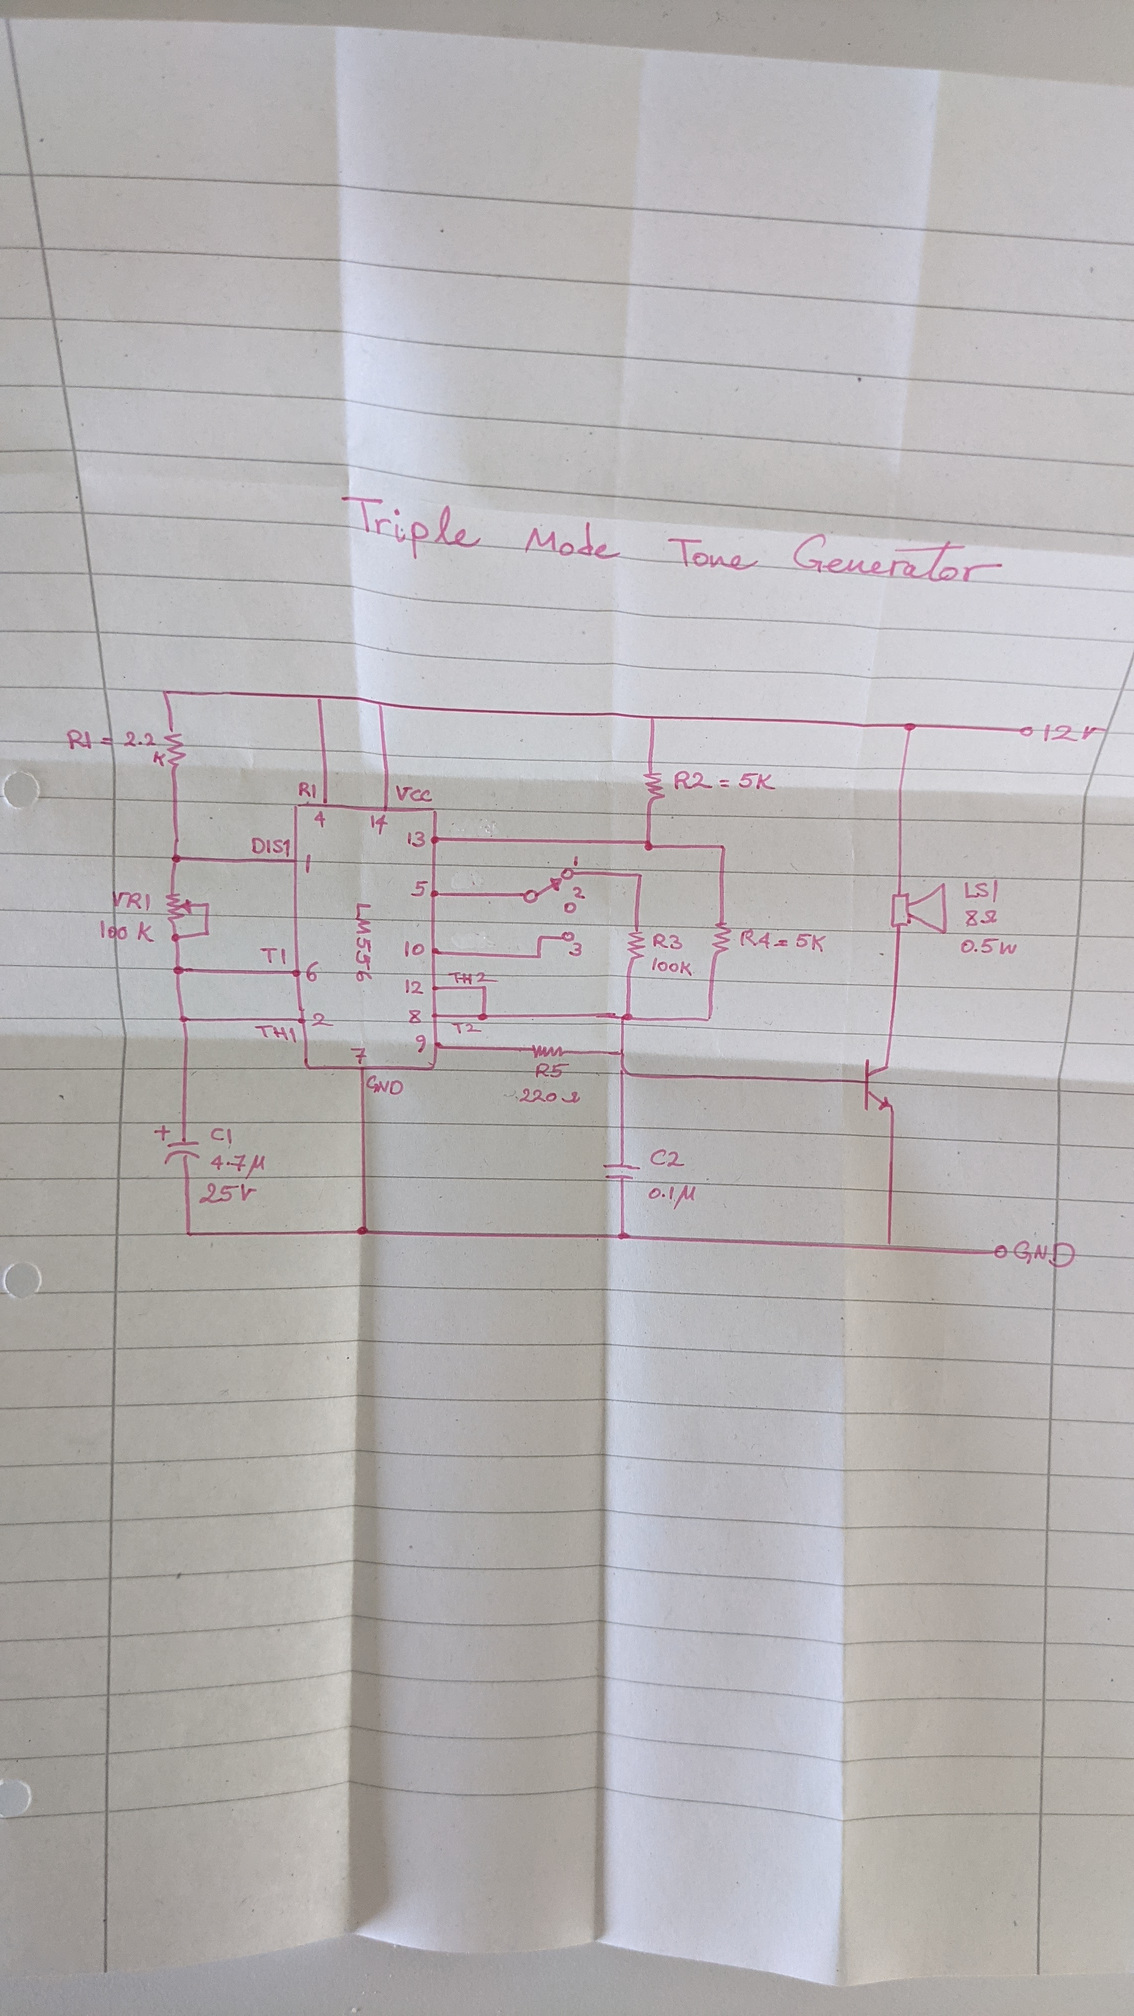capacitor.polarized: (151, 1122, 204, 1167)
capacitor.unpolarized: (600, 1160, 644, 1187)
integrated_circuit: (292, 800, 444, 1074)
junction: (172, 964, 195, 978), (177, 1014, 197, 1027), (642, 836, 656, 853), (619, 1009, 636, 1023), (354, 1224, 372, 1236), (618, 1066, 636, 1079), (169, 852, 184, 865), (616, 1230, 633, 1242), (901, 721, 918, 732), (170, 932, 186, 943), (883, 1241, 896, 1253), (702, 1014, 716, 1025), (476, 1011, 490, 1022), (634, 870, 647, 881), (201, 928, 215, 937), (183, 1227, 194, 1238), (314, 692, 325, 703), (375, 698, 386, 709), (717, 842, 728, 852), (161, 687, 172, 696), (204, 899, 213, 908), (534, 951, 544, 961), (648, 714, 659, 723), (616, 1048, 627, 1056), (479, 983, 490, 991), (536, 933, 546, 942)
resistor: (163, 726, 188, 773), (709, 919, 734, 958), (641, 768, 667, 804), (624, 928, 647, 964), (528, 1043, 568, 1061)
resistor.adjustable: (163, 892, 194, 925)
speaker: (889, 879, 953, 939)
switch: (521, 865, 579, 915)
terminal: (990, 1243, 1009, 1261), (1016, 723, 1037, 739), (557, 929, 577, 943)
text: (336, 489, 1007, 588), (65, 727, 168, 768), (737, 926, 829, 955), (673, 768, 780, 791), (1012, 1238, 1079, 1270), (353, 901, 375, 984), (98, 917, 158, 944), (209, 1152, 267, 1180), (647, 1182, 699, 1213), (1041, 721, 1108, 745), (197, 1181, 259, 1205), (516, 1086, 582, 1106), (960, 935, 1020, 957), (649, 955, 696, 980), (111, 888, 154, 914), (248, 835, 292, 857), (964, 878, 1002, 903), (253, 1023, 299, 1044), (366, 1073, 406, 1097), (647, 1146, 687, 1170), (393, 784, 435, 804), (649, 930, 685, 953), (532, 1061, 572, 1080), (446, 971, 500, 984), (964, 907, 1000, 928), (258, 944, 289, 966), (402, 937, 428, 960), (208, 1126, 235, 1146), (368, 811, 390, 836), (449, 1020, 483, 1036), (296, 780, 320, 802), (404, 829, 428, 850), (309, 1011, 335, 1029), (408, 878, 429, 899), (305, 960, 323, 983), (403, 978, 426, 996), (348, 1045, 368, 1065), (313, 809, 330, 829), (568, 942, 586, 960), (414, 1032, 428, 1054), (407, 1007, 424, 1025), (302, 852, 314, 875), (570, 885, 588, 900), (570, 853, 582, 870)
transistor: (861, 1054, 900, 1115)
